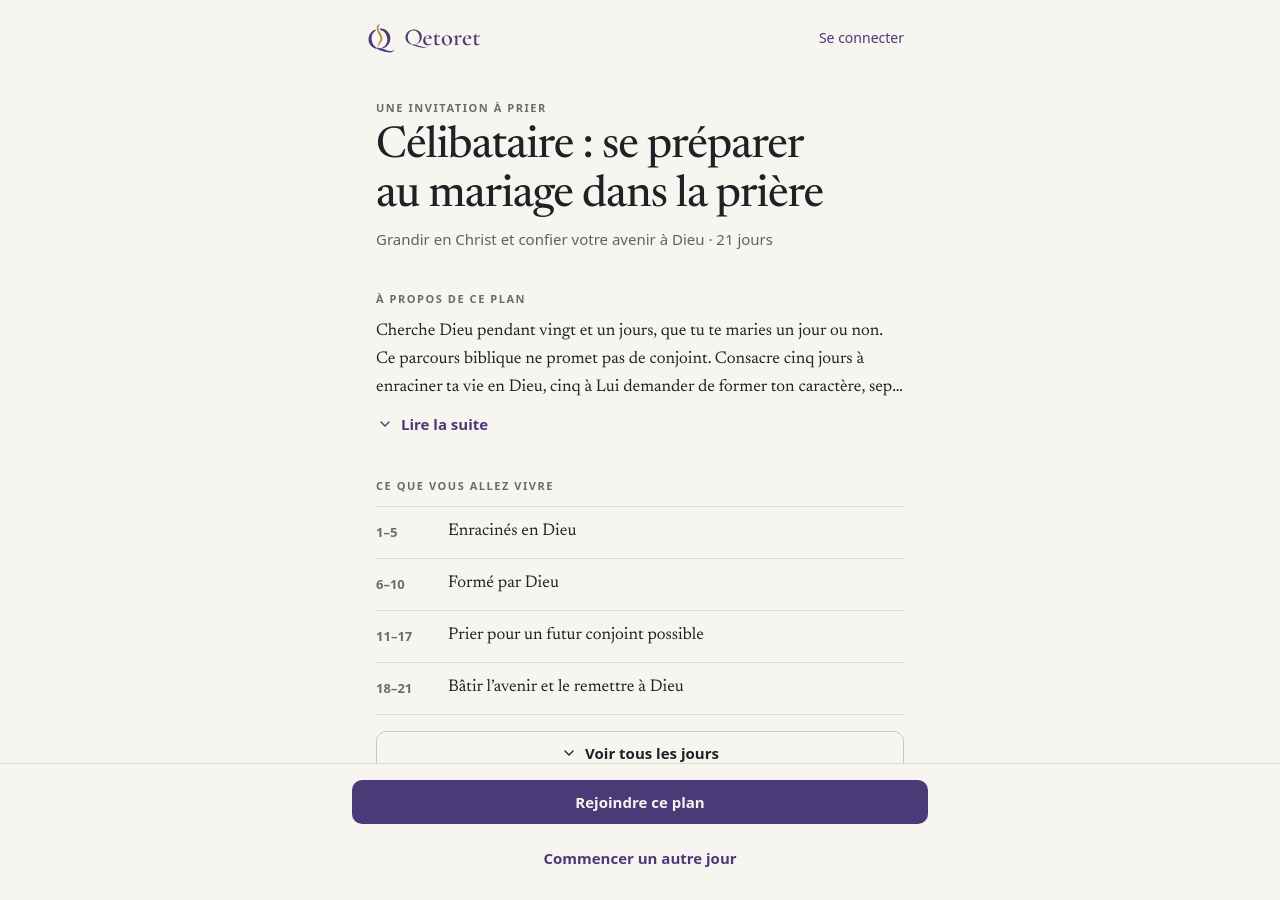
Scenario: PlanSharePublicPage › previews a long plan the way the catalogue does: movements first, every day on request
Check: the button "Rejoindre ce plan" is enabled, box [352,780,928,824]
Check: the text "Enracinés en Dieu" is shown, box [448,519,576,545]
Click the button "Voir tous les jours". click: [640, 753]
box: [376,731,904,775]
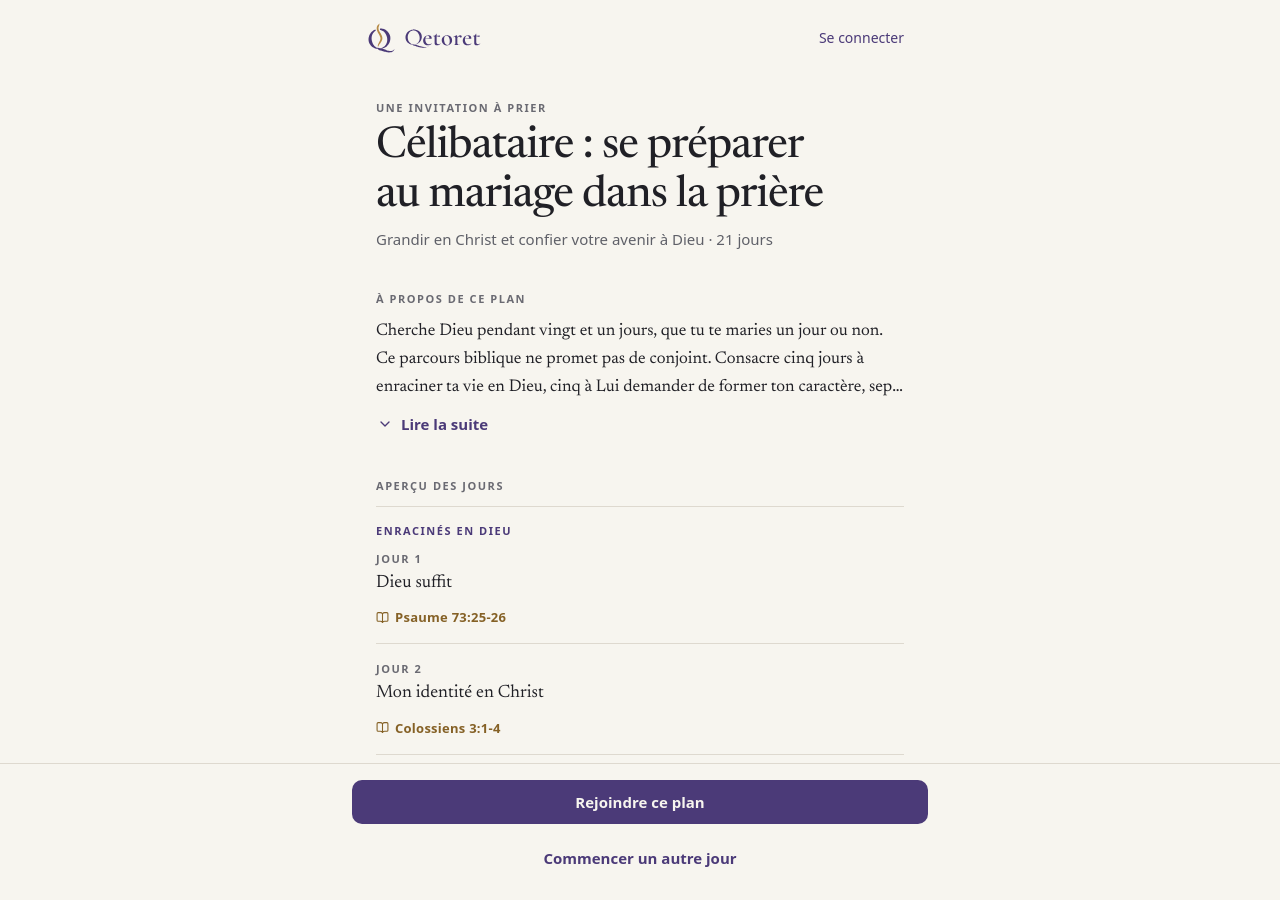
Click the button "Lire la suite". click: [433, 424]
box: [364,402,501,446]
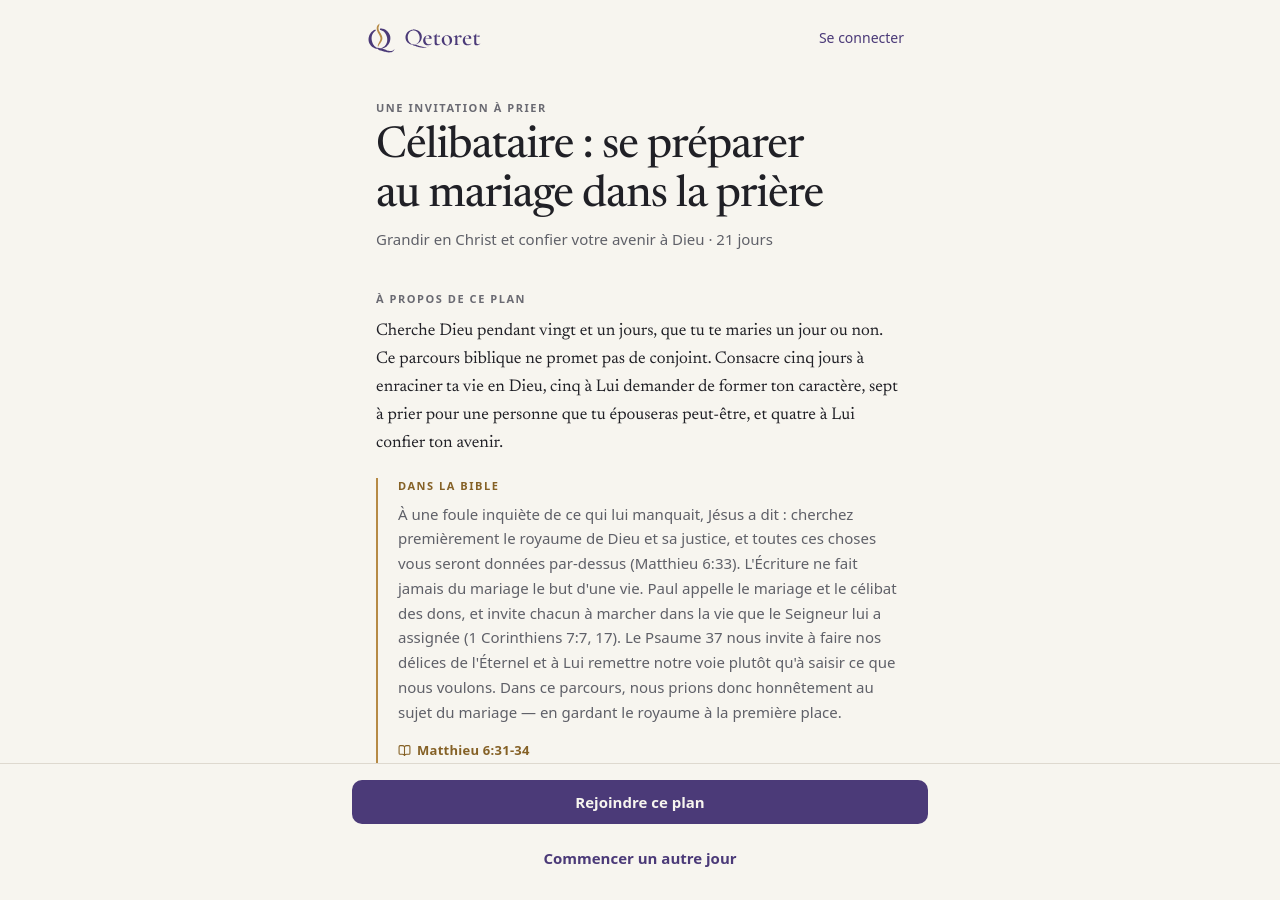
Check: the text "À une foule inquiète de ce qui lui manquait, Jésus a dit : cherchez premièrement le royaume de Dieu et sa justice, et to" is shown, box [398,504,897,722]
